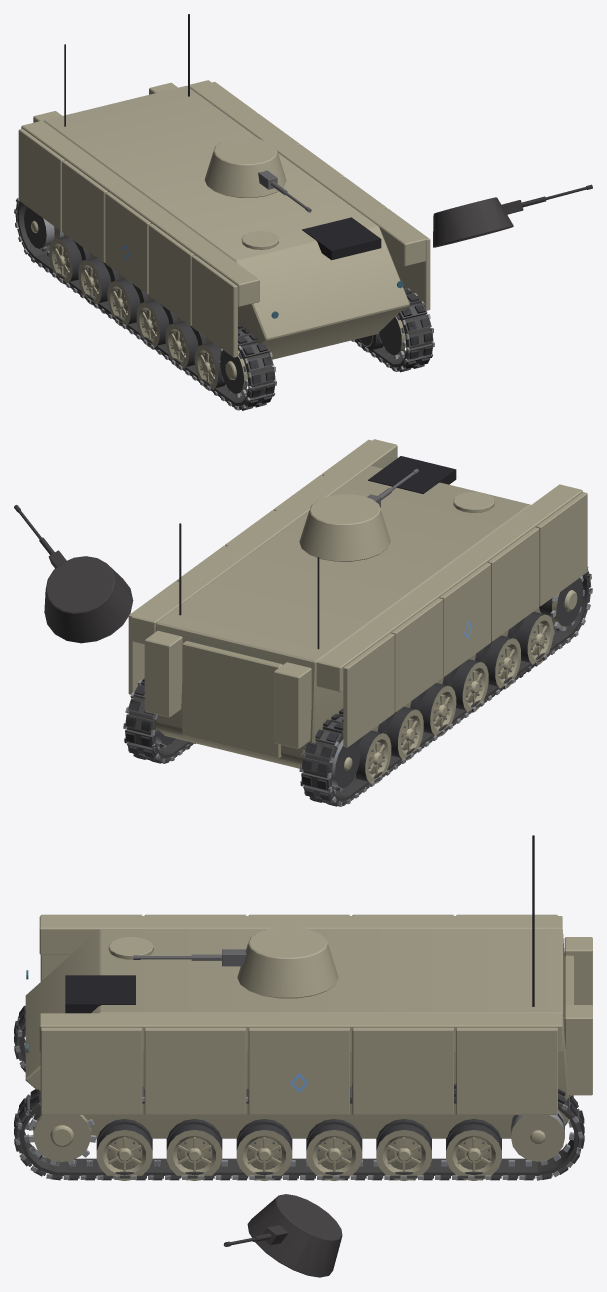
File: apc__m113as4.glb
The picture shows the model from 3 angles, top to bottom: view 1: azimuth 30°, elevation 25°; view 2: azimuth 150°, elevation 25°; view 3: azimuth 270°, elevation 25°; orthographic projection. The views are drawn at different scales.
Visible parts, largest first — view 1: Hull_Mesh, Wreck, Track_L_Mesh, Turret_Mesh, Track_R_Mesh, Wheel_L0_Mesh, Wheel_L1_Mesh, Wheel_L2_Mesh, Wheel_L3_Mesh, Wheel_L4_Mesh, Wheel_L5_Mesh, Sprocket_L_Mesh (+2 smaller); view 2: Hull_Mesh, Wreck, Track_L_Mesh, Turret_Mesh, Track_R_Mesh, Wheel_L2_Mesh, Wheel_L4_Mesh, Wheel_L5_Mesh, Wheel_L3_Mesh, Wheel_L1_Mesh, Wheel_L0_Mesh, Sprocket_L_Mesh (+1 smaller); view 3: Hull_Mesh, Track_R_Mesh, Wreck, Turret_Mesh, Wheel_R2_Mesh, Wheel_R3_Mesh, Wheel_R4_Mesh, Wheel_R5_Mesh, Wheel_R1_Mesh, Wheel_R0_Mesh, Sprocket_R_Mesh, Idler_R_Mesh (+2 smaller).
Boxes of the visible parts, left/top/right/bottom form: Hull_Mesh: left=18, top=14, right=430, bottom=359; Wreck: left=14, top=184, right=592, bottom=408; Track_L_Mesh: left=14, top=198, right=276, bottom=410; Turret_Mesh: left=204, top=137, right=286, bottom=197; Track_R_Mesh: left=351, top=286, right=434, bottom=372; Wheel_L0_Mesh: left=49, top=236, right=90, bottom=284; Wheel_L1_Mesh: left=78, top=257, right=119, bottom=305; Wheel_L2_Mesh: left=107, top=278, right=148, bottom=326; Wheel_L3_Mesh: left=136, top=300, right=177, bottom=347; Wheel_L4_Mesh: left=165, top=321, right=206, bottom=368; Wheel_L5_Mesh: left=194, top=342, right=225, bottom=389; Sprocket_L_Mesh: left=219, top=348, right=248, bottom=397; Hull_Mesh: left=128, top=439, right=587, bottom=768; Wreck: left=14, top=505, right=591, bottom=806; Track_L_Mesh: left=299, top=566, right=592, bottom=806; Turret_Mesh: left=299, top=494, right=390, bottom=561; Track_R_Mesh: left=123, top=678, right=195, bottom=763; Wheel_L2_Mesh: left=410, top=683, right=456, bottom=736; Wheel_L4_Mesh: left=475, top=635, right=520, bottom=689; Wheel_L5_Mesh: left=507, top=611, right=553, bottom=664; Wheel_L3_Mesh: left=442, top=659, right=488, bottom=713; Wheel_L1_Mesh: left=377, top=707, right=423, bottom=760; Wheel_L0_Mesh: left=356, top=730, right=391, bottom=783; Sprocket_L_Mesh: left=536, top=576, right=584, bottom=631; Hull_Mesh: left=25, top=835, right=592, bottom=1138; Track_R_Mesh: left=14, top=1084, right=584, bottom=1180; Wreck: left=14, top=1007, right=584, bottom=1277; Turret_Mesh: left=237, top=927, right=338, bottom=998; Wheel_R2_Mesh: left=306, top=1119, right=362, bottom=1180; Wheel_R3_Mesh: left=236, top=1119, right=292, bottom=1180; Wheel_R4_Mesh: left=166, top=1119, right=222, bottom=1180; Wheel_R5_Mesh: left=96, top=1119, right=152, bottom=1180; Wheel_R1_Mesh: left=376, top=1119, right=431, bottom=1180; Wheel_R0_Mesh: left=446, top=1119, right=501, bottom=1180; Sprocket_R_Mesh: left=28, top=1110, right=96, bottom=1165; Idler_R_Mesh: left=510, top=1111, right=564, bottom=1161.
Size of what is drawn, in the model's own units: 6.42 by 2.99 by 6.13.
